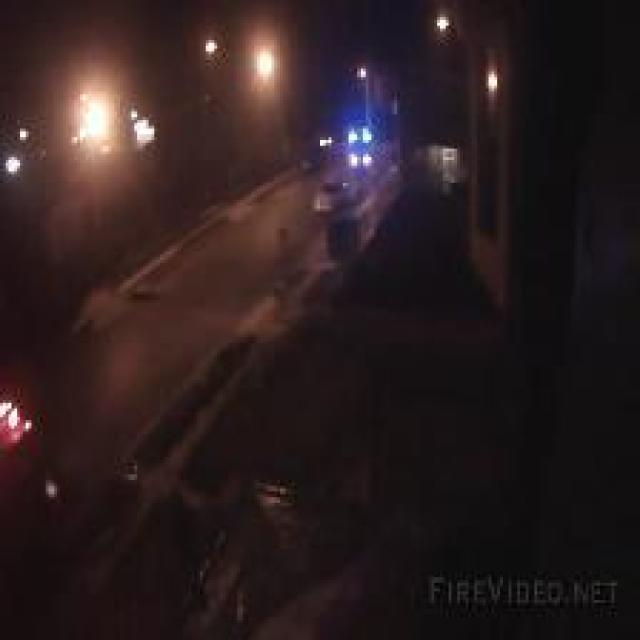other: (62, 54, 170, 182), (195, 24, 274, 92), (0, 378, 31, 455)
